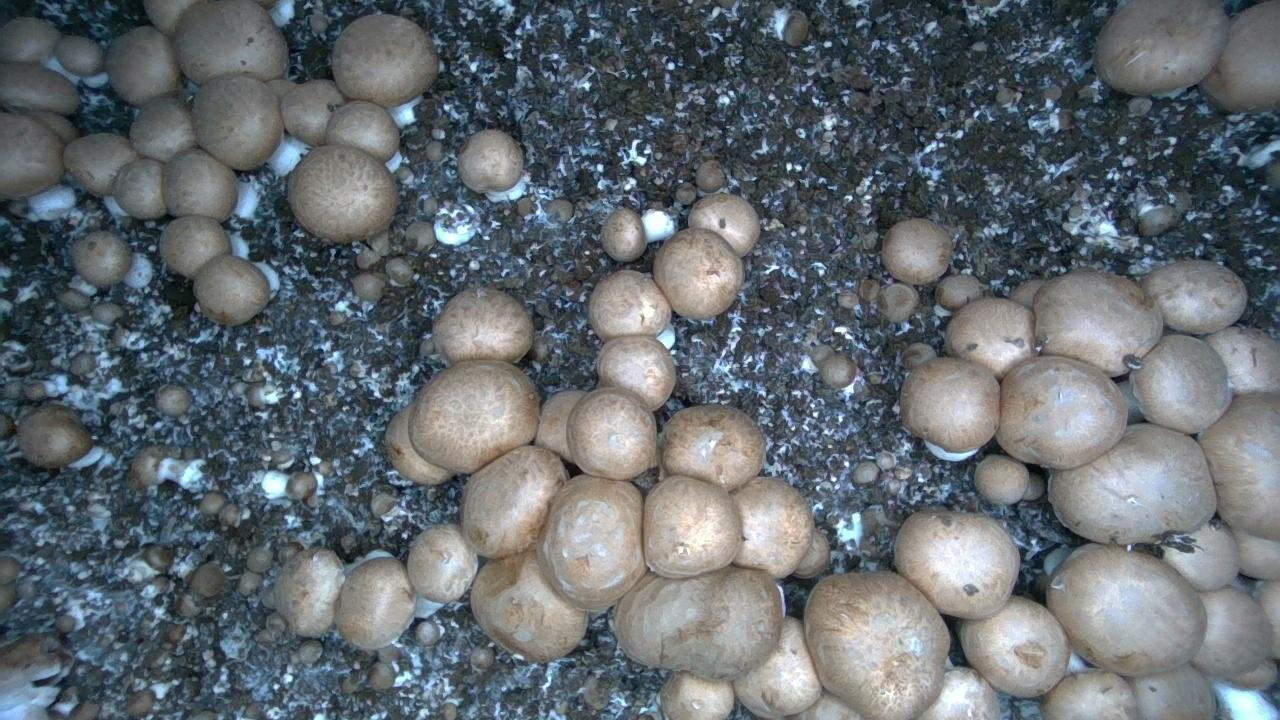BB: (804, 572, 949, 719), (1049, 544, 1206, 676), (1049, 424, 1215, 544), (614, 566, 784, 679), (996, 356, 1127, 469), (537, 475, 646, 610), (409, 360, 539, 473), (1033, 269, 1162, 376), (894, 511, 1020, 618), (471, 550, 587, 662), (1094, 0, 1229, 95), (460, 446, 568, 558), (1199, 394, 1279, 540), (960, 596, 1070, 697), (288, 145, 397, 242), (643, 475, 741, 578), (1130, 334, 1231, 433), (332, 14, 437, 107), (173, 0, 288, 84), (900, 357, 999, 452), (1199, 0, 1279, 111), (662, 404, 764, 491), (192, 75, 283, 170), (732, 477, 814, 578), (653, 228, 744, 318), (567, 387, 656, 479), (1142, 260, 1246, 334), (433, 288, 533, 363), (945, 297, 1035, 379), (335, 558, 415, 649), (1192, 586, 1272, 677), (105, 26, 182, 105), (275, 548, 344, 636), (596, 335, 675, 410), (588, 270, 670, 339), (407, 524, 477, 602), (162, 149, 237, 221), (384, 405, 452, 484), (193, 254, 269, 324), (1163, 522, 1239, 590), (1205, 326, 1279, 393), (17, 405, 93, 468), (63, 133, 139, 196), (1128, 664, 1215, 719), (1042, 669, 1137, 719), (882, 218, 952, 284), (688, 193, 760, 256), (325, 101, 398, 162), (159, 215, 230, 277), (280, 79, 345, 145), (919, 667, 1000, 719), (130, 97, 195, 161), (0, 62, 79, 114), (458, 130, 523, 192), (659, 671, 734, 719), (974, 455, 1045, 504), (71, 231, 131, 287), (113, 158, 165, 219), (0, 17, 59, 62), (601, 208, 646, 262)
